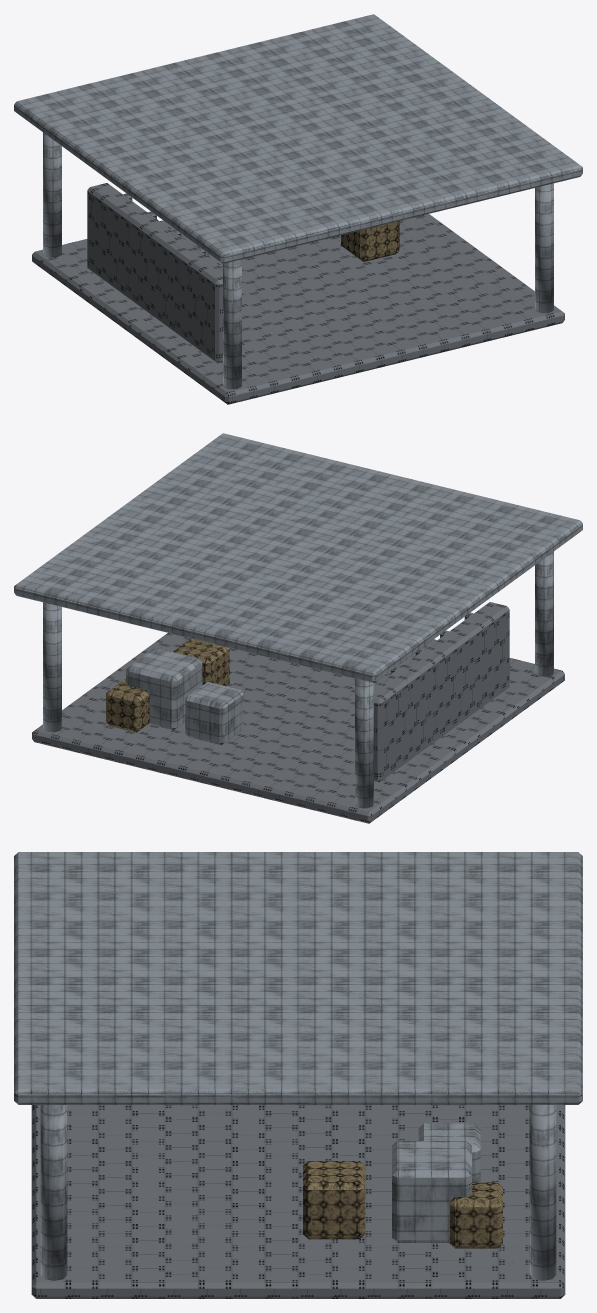
File: armory.gltf
3 views of the same model, one above another, from view 1: azimuth 30°, elevation 25°; view 2: azimuth 150°, elevation 25°; view 3: azimuth 270°, elevation 25° (orthographic). The views are drawn at different scales.
Visible parts, largest first — view 1: roof, floor, rack, post-55-55, post55-55, post-5555, crate1; view 2: roof, floor, rack, crate0, crate2, post-5555, post5555, post-55-55, crate3, crate1; view 3: roof, floor, crate0, crate1, post55-55, post5555, crate3, crate2.
Boxes of the visible parts, x1,y1,x2,y2 form: roof: [14, 14, 582, 263]; floor: [32, 214, 564, 404]; rack: [87, 183, 222, 363]; post-55-55: [223, 259, 241, 389]; post55-55: [535, 183, 553, 313]; post-5555: [43, 132, 61, 257]; crate1: [341, 221, 399, 261]; roof: [14, 433, 582, 682]; floor: [32, 633, 564, 823]; rack: [374, 602, 509, 782]; crate0: [126, 647, 202, 730]; crate2: [185, 682, 243, 745]; post-5555: [355, 678, 373, 808]; post5555: [43, 602, 61, 732]; post-55-55: [535, 551, 553, 676]; crate3: [106, 679, 149, 732]; crate1: [173, 638, 229, 686]; roof: [14, 852, 582, 1104]; floor: [31, 1105, 565, 1298]; crate0: [392, 1141, 471, 1242]; crate1: [303, 1161, 365, 1239]; post55-55: [40, 1105, 67, 1280]; post5555: [529, 1105, 556, 1280]; crate3: [449, 1182, 502, 1248]; crate2: [418, 1123, 480, 1182].
Size of the model in its own units: 128 by 54 by 128.
3 materials, 3 textured.
